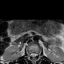CCS_normal: (32, 50, 34, 60)
LFS_normal: (36, 50, 38, 57)
LLS_normal: (34, 50, 36, 59)
RFS_normal: (28, 50, 30, 58)
RLS_normal: (30, 50, 32, 59)
